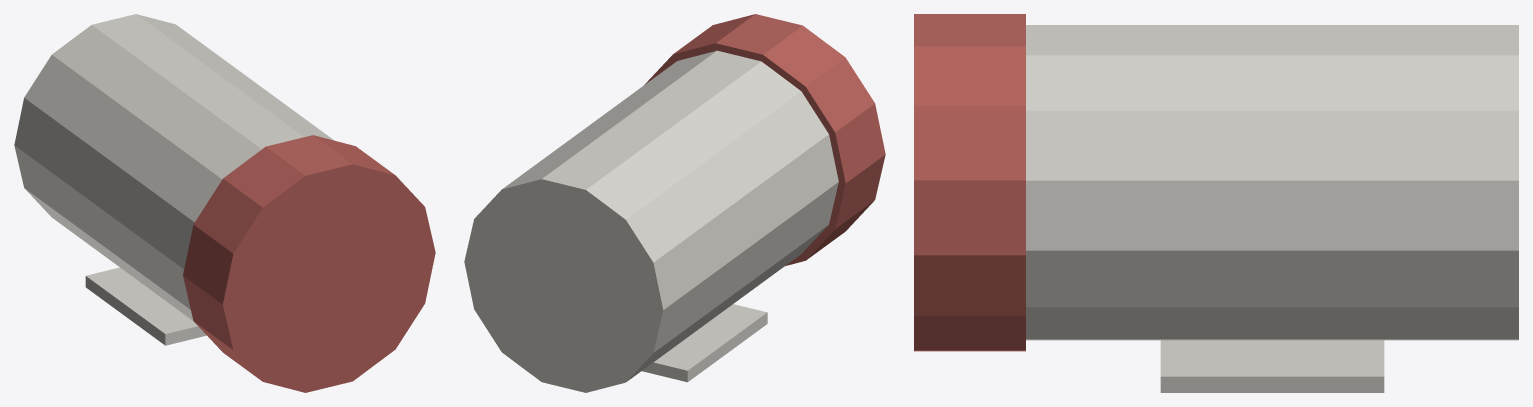
File: antibiotics.glb
3 renders of one model, left to right at view 1: azimuth 30°, elevation 25°; view 2: azimuth 150°, elevation 25°; view 3: azimuth 270°, elevation 25°, orthographic. The views are drawn at different scales.
Visible parts, largest first — view 1: 01_cap, 00_medicine_bottle, 02_label; view 2: 00_medicine_bottle, 01_cap, 02_label; view 3: 00_medicine_bottle, 01_cap, 02_label.
Part boxes in pixels (left/top/right/bottom): 01_cap: left=183, top=135, right=435, bottom=392; 00_medicine_bottle: left=14, top=14, right=334, bottom=320; 02_label: left=85, top=267, right=206, bottom=345; 00_medicine_bottle: left=464, top=50, right=838, bottom=392; 01_cap: left=644, top=14, right=885, bottom=265; 02_label: left=642, top=304, right=767, bottom=382; 00_medicine_bottle: left=1026, top=25, right=1518, bottom=340; 01_cap: left=914, top=14, right=1025, bottom=351; 02_label: left=1160, top=340, right=1384, bottom=392.
Size of the model in its own units: 0.154 by 0.1581 by 0.27.
